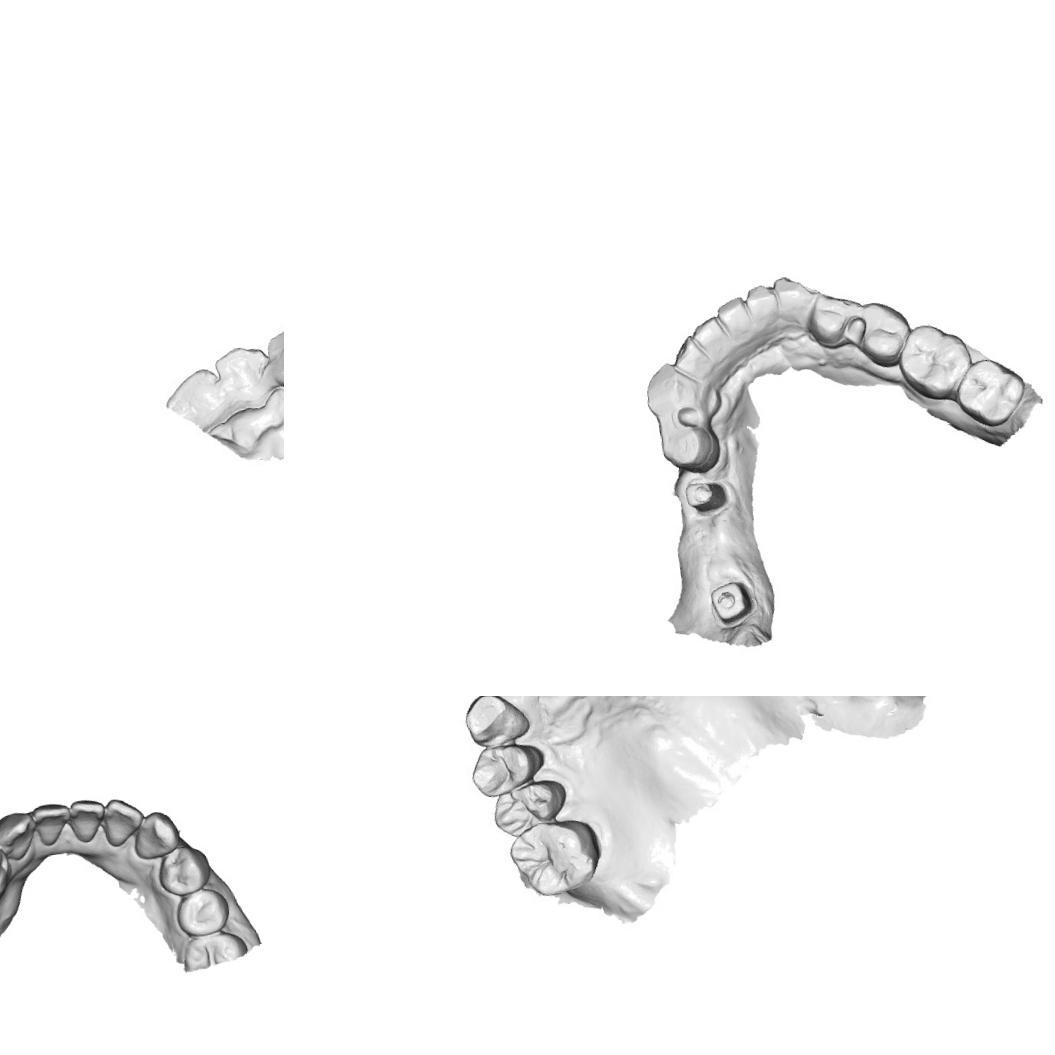abutment: (701, 576, 762, 633), (680, 472, 732, 518)
canine: (638, 358, 706, 424), (458, 696, 530, 754), (129, 807, 183, 863), (770, 271, 822, 329), (0, 808, 40, 865), (265, 324, 284, 404)
incisor: (211, 339, 284, 420), (161, 366, 228, 436), (100, 795, 148, 850), (63, 793, 108, 848), (30, 800, 75, 848), (742, 282, 780, 322), (714, 295, 749, 336), (690, 315, 724, 351), (668, 334, 700, 370)
molar: (504, 811, 606, 904), (893, 318, 977, 405), (951, 354, 1030, 430)
premolar: (487, 774, 573, 840), (463, 735, 548, 799), (852, 296, 915, 371), (656, 419, 724, 479), (802, 288, 864, 352), (153, 842, 216, 900), (174, 886, 232, 940), (0, 839, 12, 903)
